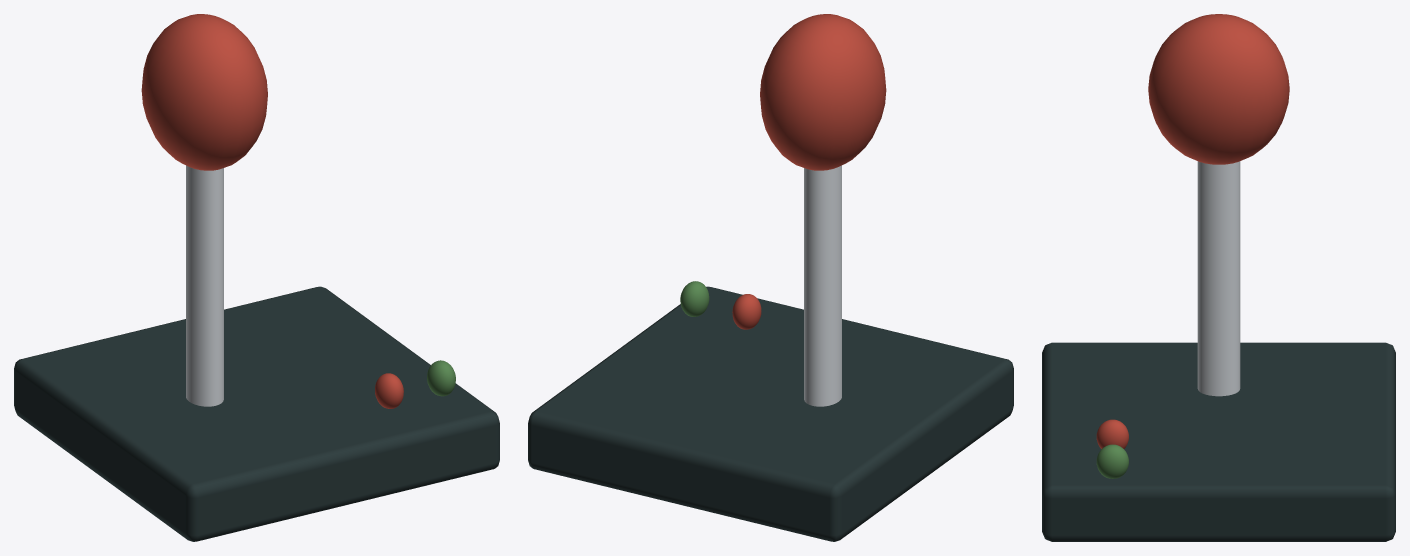
The model's file is wp-joystick.glb.
3 views of the same model, side by side, from view 1: azimuth 30°, elevation 25°; view 2: azimuth 150°, elevation 25°; view 3: azimuth 270°, elevation 25° (orthographic). The views are drawn at different scales.
Parts seen in each view (by area): view 1: wp-joystick; view 2: wp-joystick; view 3: wp-joystick.
Part boxes in pixels (x1=…): wp-joystick: x1=14, y1=14, x2=499, y2=541; wp-joystick: x1=528, y1=14, x2=1013, y2=541; wp-joystick: x1=1042, y1=14, x2=1395, y2=541.
Bounding box in the file's own units: 0.15 × 0.2 × 0.15.
